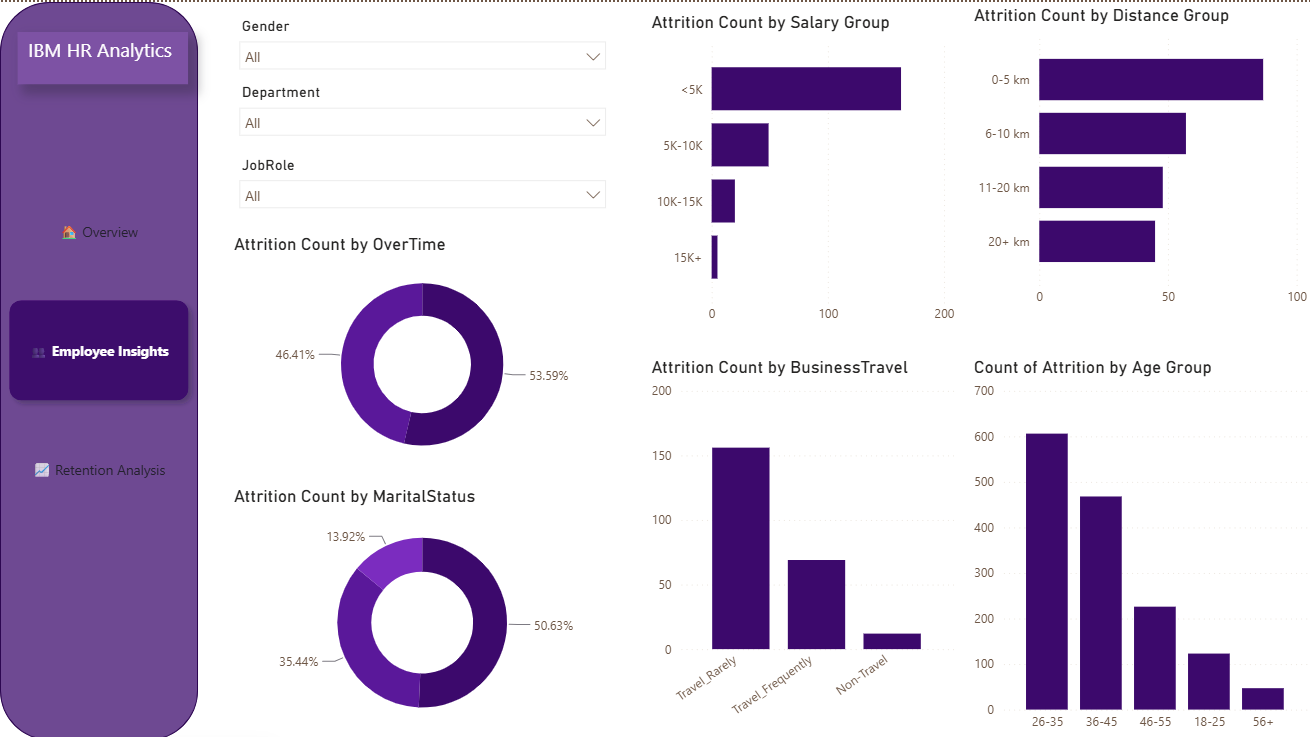

The dashboard page shown, as its layout file describes it:
{"tool":"powerbi","page":{"name":"👥 Employee Insights","canvas":[1280,720],"ordinal":1},"visuals":[{"type":"clusteredColumnChart","fields":{"Y":["CountNonNull(IBM HR.Attrition)"],"Category":["IBM HR.Age Group"]},"box":[945.2,346.1,335.1,374.2],"z":0},{"type":"shape","box":[0,0,193.2,720.2],"z":500,"group":"g1"},{"type":"clusteredBarChart","fields":{"Y":["IBM HR.Attrition Count"],"Category":["IBM HR.Salary Group"]},"box":[631,9.8,305.7,313],"z":1000},{"type":"donutChart","fields":{"Category":["IBM HR.OverTime"],"Y":["IBM HR.Attrition Count"]},"box":[223.8,225,377.9,237.2],"z":2000},{"type":"clusteredColumnChart","fields":{"Category":["IBM HR.BusinessTravel"],"Y":["IBM HR.Attrition Count"]},"box":[631,346.1,305.7,374.2],"z":3000},{"type":"barChart","fields":{"Category":["IBM HR.Distance Group"],"Y":["IBM HR.Attrition Count"]},"box":[945.2,2.4,335.1,303.3],"z":4000},{"type":"donutChart","fields":{"Y":["IBM HR.Attrition Count"],"Category":["IBM HR.MaritalStatus"]},"box":[223.8,472,377.9,248.2],"z":5000},{"type":"slicer","fields":{"Values":["IBM HR.Department"]},"box":[223.8,74.6,377.9,61.1],"z":6000},{"type":"slicer","fields":{"Values":["IBM HR.Gender"]},"box":[223.8,9.8,377.9,64.8],"z":7000},{"type":"slicer","fields":{"Values":["IBM HR.JobRole"]},"box":[223.8,145.5,377.9,67.3],"z":8000},{"type":"group","id":"g1","title":"Group 1","box":[0,0,192,720],"z":9000},{"type":"textbox","box":[17.1,29.3,166.3,51.4],"z":10000},{"type":"pageNavigator","box":[0,166.3,193.2,351],"z":15001,"group":"g1"}]}

Visuals, with their boxes in screenshot pixels (x1, y1, x2, y2), scaled from the page's 1280x720 canvas onto the 1310x737 screenshot:
clusteredColumnChart - CountNonNull(IBM HR.Attrition) x IBM HR.Age Group: 967/354/1309/736
shape: 0/0/198/736
clusteredBarChart - IBM HR.Attrition Count x IBM HR.Salary Group: 646/10/959/330
donutChart - IBM HR.OverTime x IBM HR.Attrition Count: 229/230/616/473
clusteredColumnChart - IBM HR.BusinessTravel x IBM HR.Attrition Count: 646/354/959/736
barChart - IBM HR.Distance Group x IBM HR.Attrition Count: 967/2/1309/313
donutChart - IBM HR.Attrition Count x IBM HR.MaritalStatus: 229/483/616/736
slicer - IBM HR.Department: 229/76/616/139
slicer - IBM HR.Gender: 229/10/616/76
slicer - IBM HR.JobRole: 229/149/616/218
"Group 1" group: 0/0/196/736
textbox: 18/30/188/83
pageNavigator: 0/170/198/530
